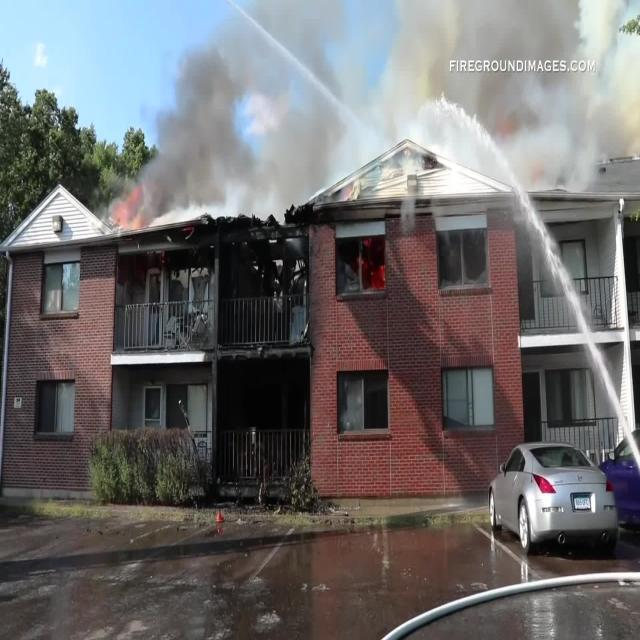Smoke: (102, 0, 348, 230), (368, 0, 640, 181)
